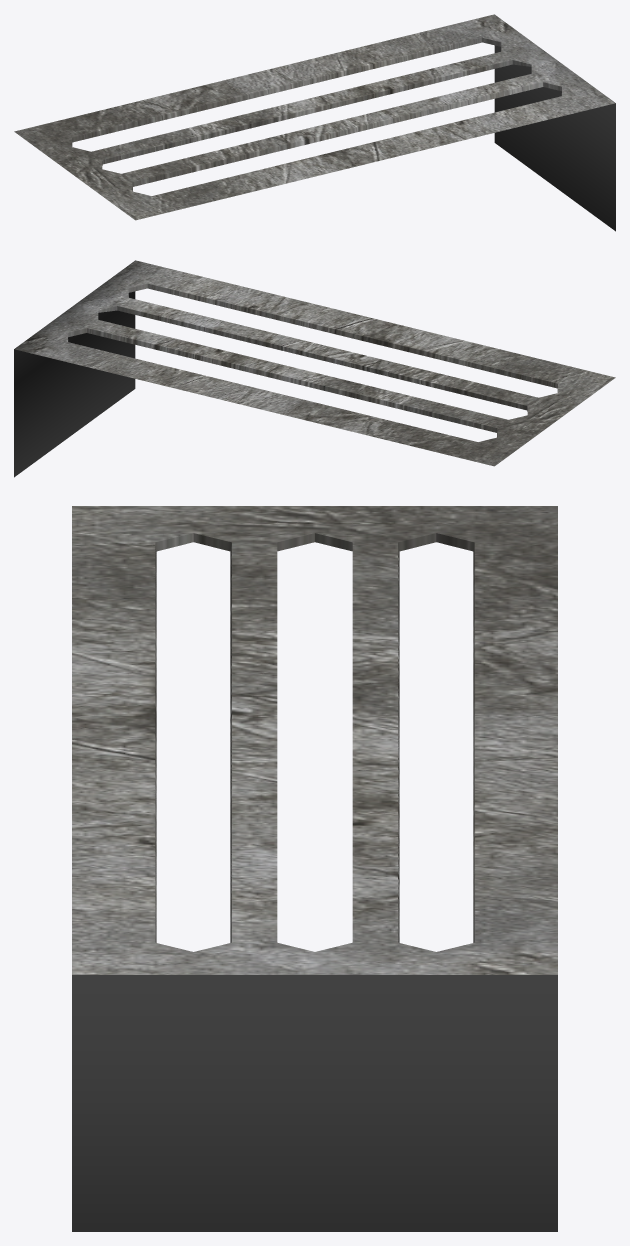
File: TampaB.fbx
The picture shows the model from 3 angles, top to bottom: view 1: azimuth 30°, elevation 25°; view 2: azimuth 150°, elevation 25°; view 3: azimuth 270°, elevation 25°; orthographic projection. The views are drawn at different scales.
Visible parts, largest first — view 1: SaidaA; view 2: SaidaA; view 3: SaidaA.
Part boxes in pixels (box(x1,y1,x2,y2)): SaidaA: box(14, 14, 615, 231); SaidaA: box(14, 260, 615, 477); SaidaA: box(72, 506, 557, 1231).
Size of the model in its own units: 79.22 by 20.23 by 34.68.
